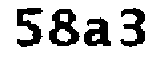3: (117, 5, 152, 53)
5: (12, 5, 44, 50)
8: (47, 5, 80, 50)
a: (83, 14, 112, 49)
